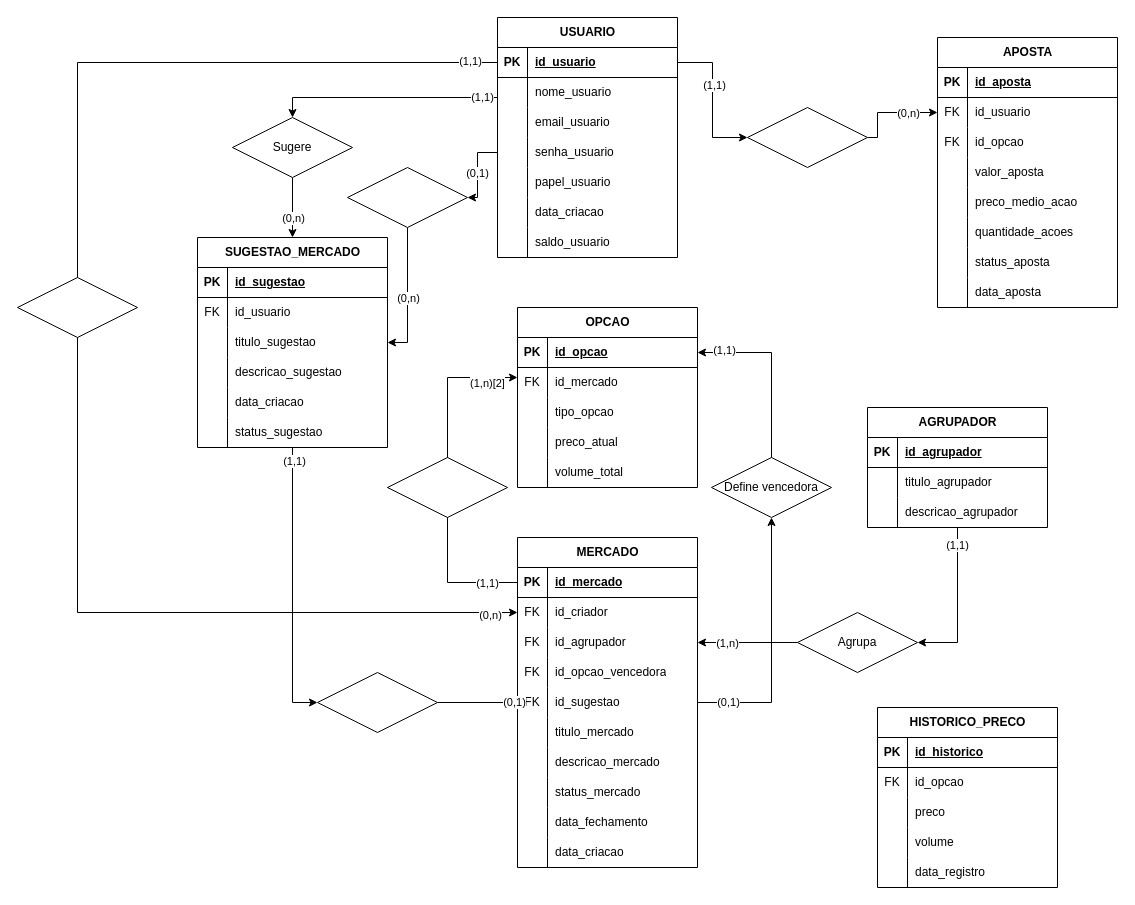
Some shapes in this 1135 by 905 pixel diagram are drawn without their labels. The centre of each missing label's shape, as x and y in pixels:
"Aprova" goes at (x=407, y=197).
"Cria" goes at (x=77, y=307).
"Faz" goes at (x=807, y=137).
"Gera" goes at (x=377, y=702).
"Possui" goes at (x=447, y=487).
